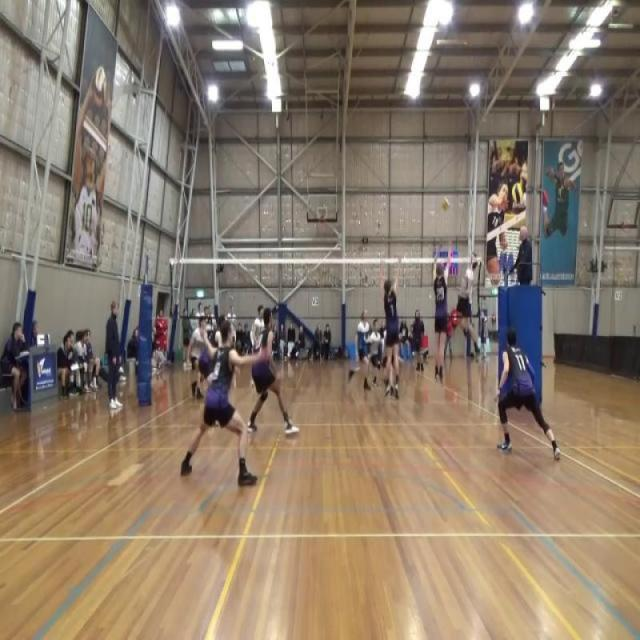volleyball: (90, 64, 106, 110), (511, 184, 523, 204), (442, 196, 450, 211)
